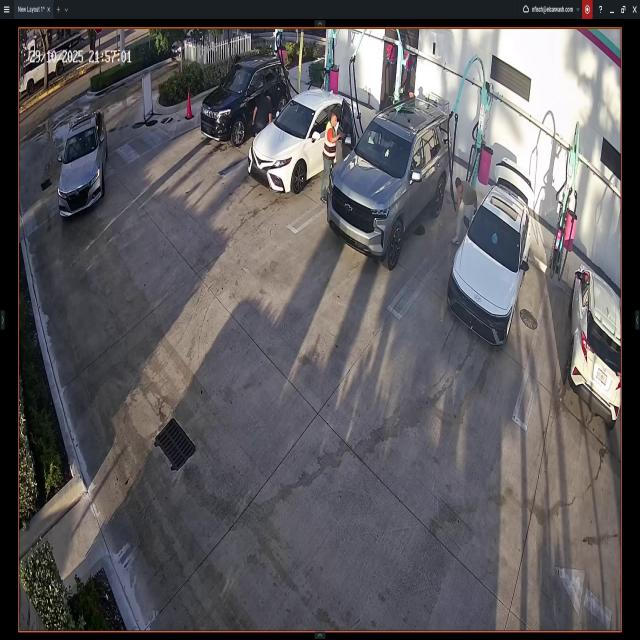Car: (329, 99, 449, 268), (448, 155, 534, 347), (248, 90, 362, 196), (199, 55, 290, 146), (568, 269, 622, 420), (56, 108, 106, 214)
